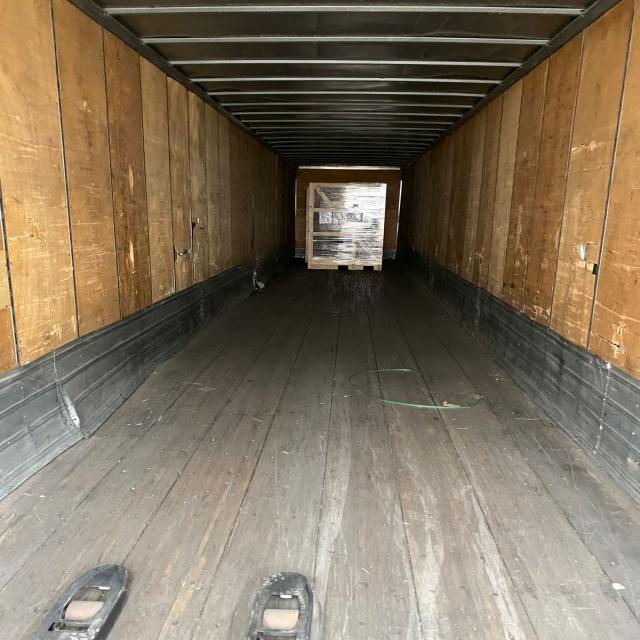1500p: (306, 182, 385, 270)
